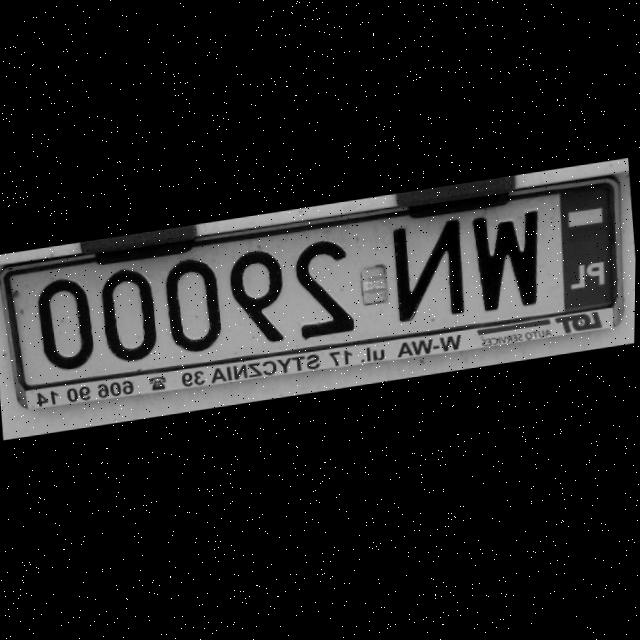license-plates: (11, 183, 616, 388)
